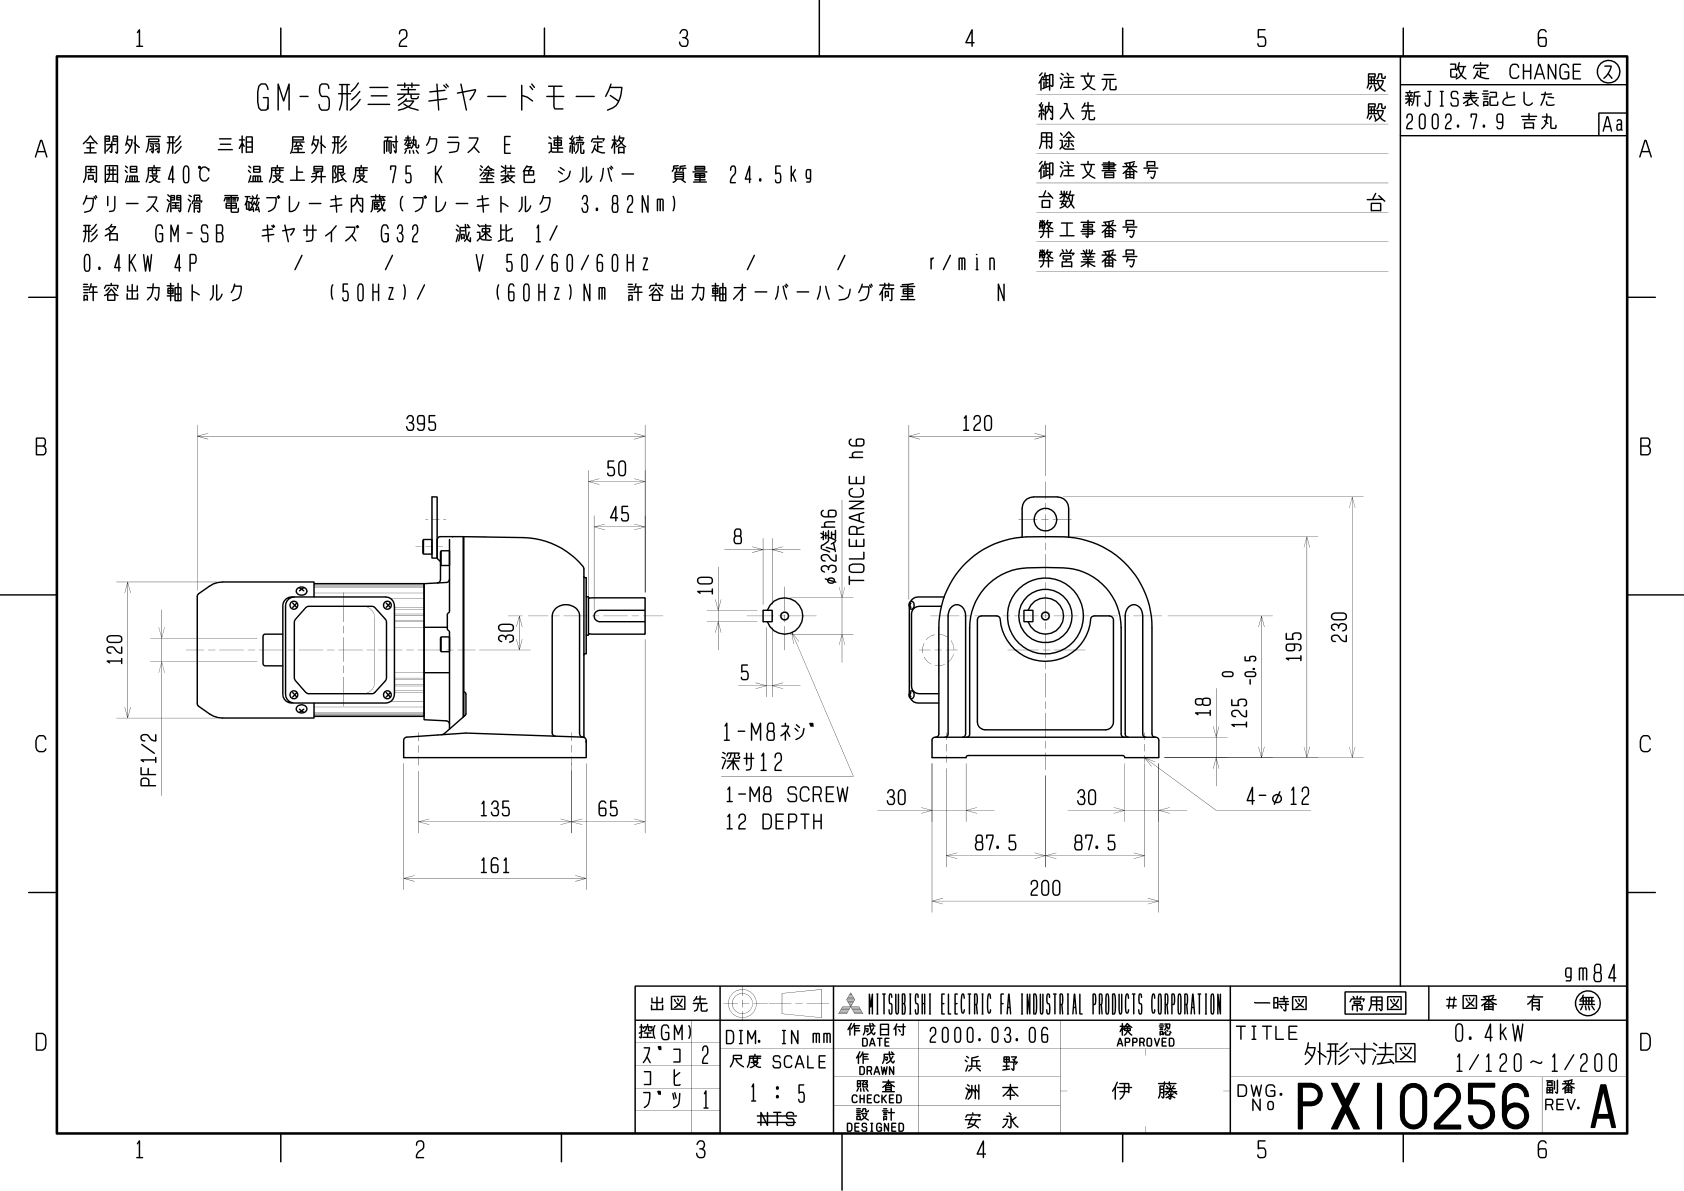GM_S_屋外＿三相_脚: (81, 391, 1377, 945)
